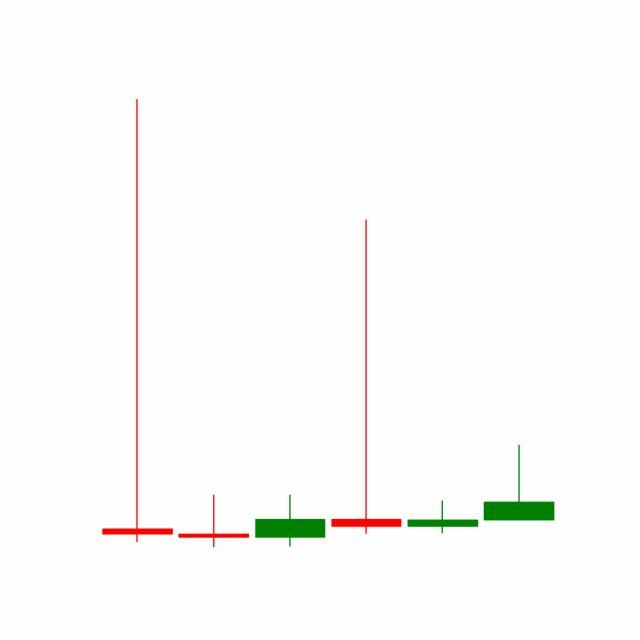Spinning Top: (404, 501, 482, 535)
